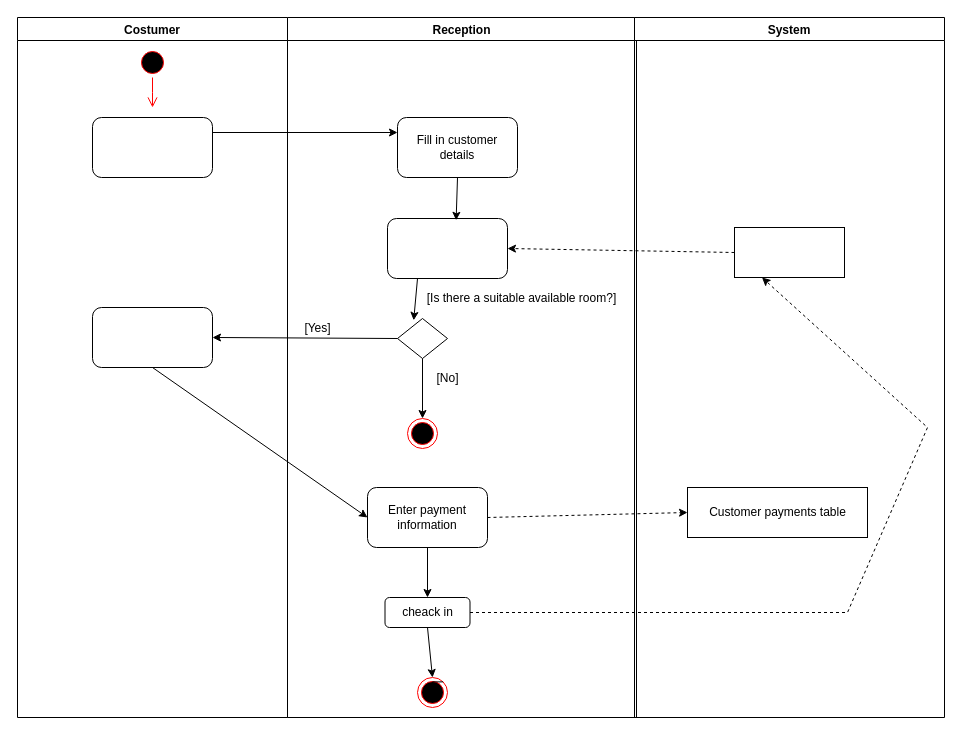
Some shapes in this 962 by 735 pixel diagram are drawn without their labels. Here are the shapes that lost their labels. From the top down, the centre of each, then its label:
At pixel 152 147: "Deliver customer information and Deliver room details".
At pixel 447 248: "Find a suitable room".
At pixel 789 252: "rooms table".
At pixel 152 337: "Deliver payment details".
